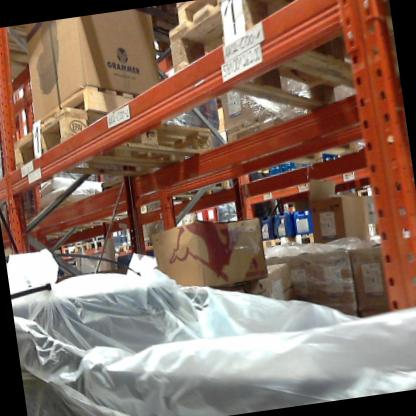pallet: (157, 0, 398, 137), (2, 92, 231, 190), (24, 71, 175, 135), (243, 129, 364, 188), (26, 181, 129, 245), (119, 167, 243, 216), (99, 162, 174, 208), (163, 0, 280, 27), (221, 111, 274, 143), (290, 225, 331, 254), (256, 225, 293, 257), (86, 232, 113, 253), (127, 236, 154, 254), (278, 194, 304, 212), (356, 182, 379, 202), (71, 239, 93, 257), (58, 242, 76, 258), (116, 241, 127, 257)
